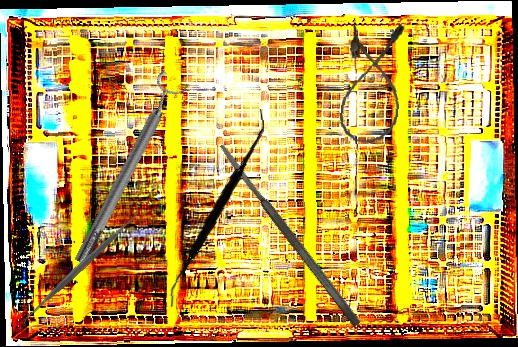Cannula: (337, 18, 409, 147)
Fixation Ring: (62, 69, 192, 270)
Spatula Surgical: (217, 141, 362, 329), (156, 109, 277, 307), (13, 201, 150, 331)
